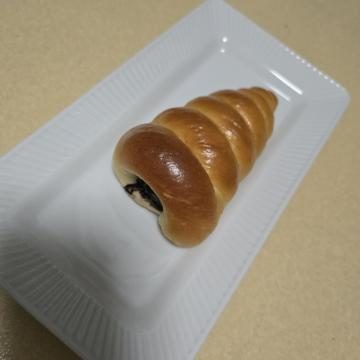cream horn: (72, 71, 255, 254)
